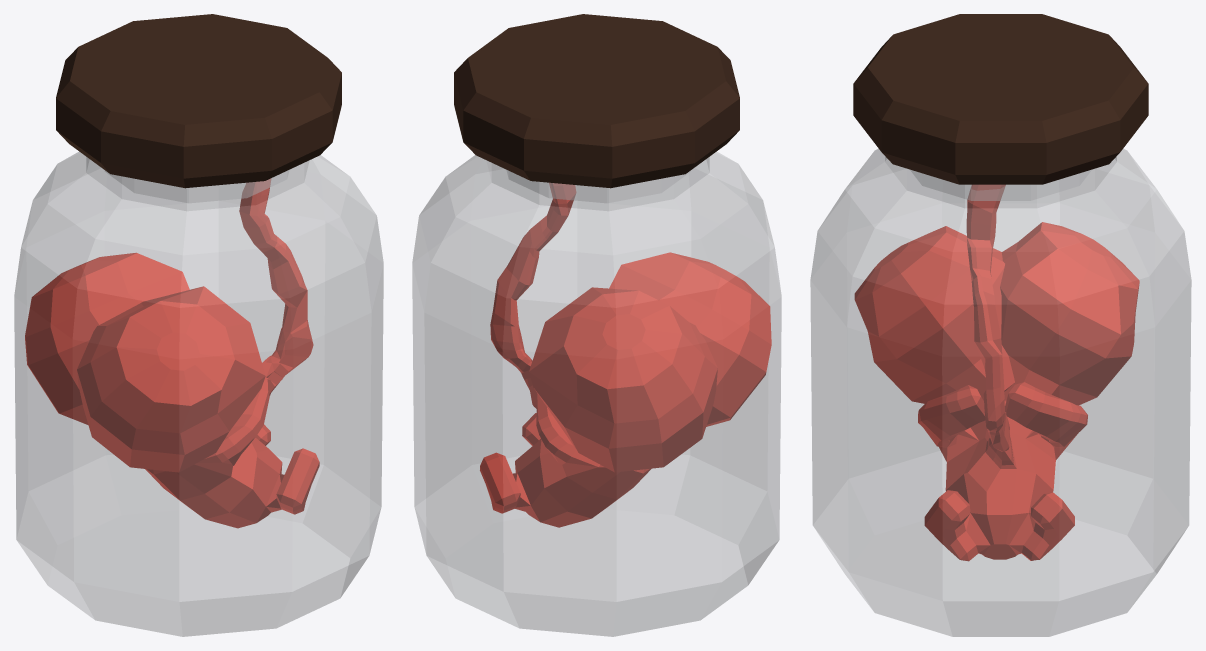
3 renders of one model, left to right at view 1: azimuth 30°, elevation 25°; view 2: azimuth 150°, elevation 25°; view 3: azimuth 270°, elevation 25°, orthographic.
Parts seen in each view (by area): view 1: Jar, Lid, Fetus Head, Fetus body, Fetus Head #2; view 2: Jar, Lid, Fetus Head #2, Fetus body, Fetus Head; view 3: Jar, Lid, Fetus body, Fetus Head #2, Fetus Head.
Part boxes in pixels (x1,y1,x2,y2): Jar: [14, 151, 383, 636]; Lid: [56, 14, 341, 188]; Fetus Head: [77, 286, 265, 472]; Fetus body: [145, 179, 319, 528]; Fetus Head #2: [25, 252, 189, 424]; Jar: [412, 151, 781, 636]; Lid: [454, 14, 739, 188]; Fetus Head #2: [529, 287, 717, 472]; Fetus body: [480, 183, 651, 527]; Fetus Head: [609, 252, 771, 426]; Jar: [810, 148, 1191, 636]; Lid: [853, 14, 1148, 184]; Fetus body: [918, 184, 1087, 561]; Fetus Head #2: [1000, 222, 1139, 405]; Fetus Head: [854, 226, 1014, 403].
Bounding box in the file's own units: 3.85 × 5.94 × 4.05.
